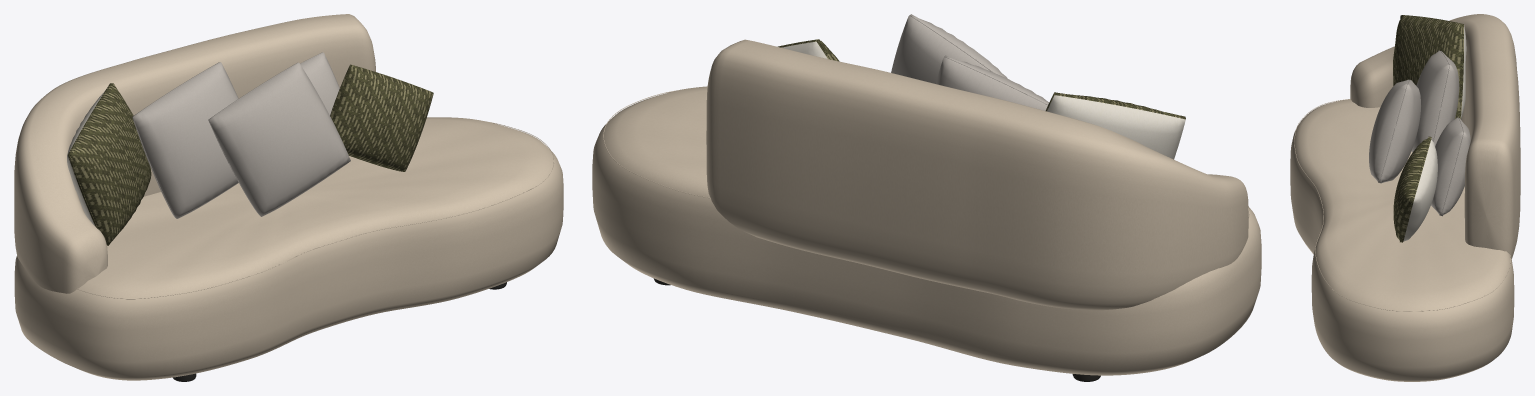
The model's file is sofa.glb.
The picture shows the model from 3 angles, left to right: view 1: azimuth 30°, elevation 25°; view 2: azimuth 150°, elevation 25°; view 3: azimuth 270°, elevation 25°; orthographic projection. The views are drawn at different scales.
Parts seen in each view (by area): view 1: seat_cover, back_cover, cushion_03_cover, cushion_02_cover, cushion_01_cover, cushion_05_cover, cushion_04_cover, seat_panel_seam; view 2: back_cover, seat_cover, cushion_01_cover, cushion_03_cover, cushion_02_cover, cushion_05_cover; view 3: seat_cover, back_cover, cushion_01_cover, cushion_03_cover, cushion_05_cover, cushion_02_cover, cushion_04_cover, seat_panel_seam.
Part boxes in pixels (x1,y1,x2,y2): seat_cover: (14,117,563,380); back_cover: (14,14,375,293); cushion_03_cover: (208,62,350,216); cushion_02_cover: (132,62,238,218); cushion_01_cover: (67,83,151,245); cushion_05_cover: (330,64,433,171); cushion_04_cover: (300,52,339,115); seat_panel_seam: (76,121,554,299); back_cover: (706,39,1248,310); seat_cover: (592,86,1261,375); cushion_01_cover: (1045,92,1185,159); cushion_03_cover: (891,14,1007,83); cushion_02_cover: (936,55,1049,110); cushion_05_cover: (778,39,839,61); seat_cover: (1290,99,1514,381); back_cover: (1350,14,1520,258); cushion_01_cover: (1393,15,1466,119); cushion_03_cover: (1369,79,1420,183); cushion_05_cover: (1393,136,1437,242); cushion_02_cover: (1411,50,1459,152); cushion_04_cover: (1431,117,1470,216); seat_panel_seam: (1294,99,1510,311).
Size of the model in its own units: 2.49 by 1.07 by 1.08.
Materials: 8 (7 with a texture image).
